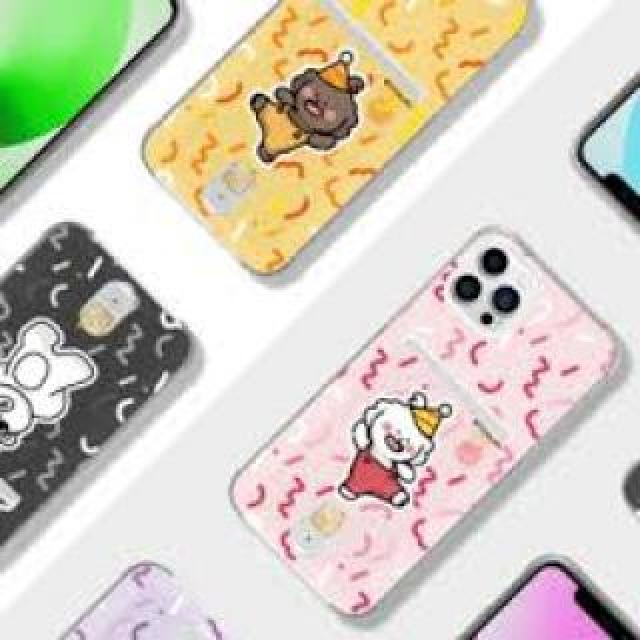smart phone: (235, 230, 628, 565)
